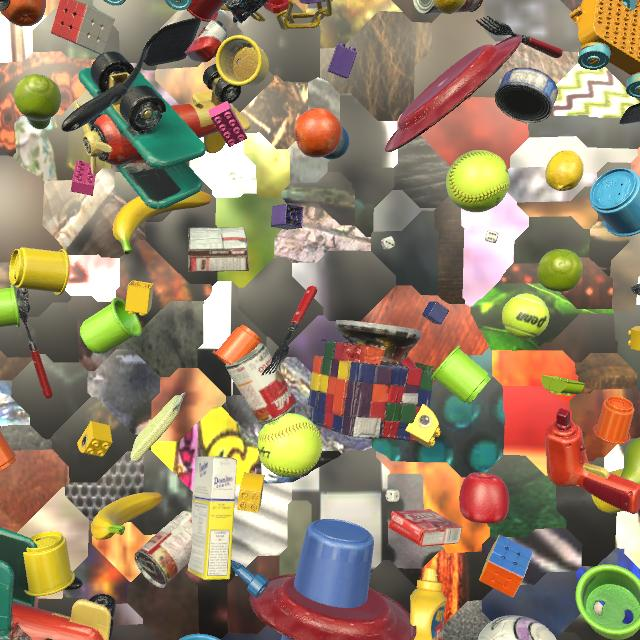ycb_004_sugar_box: (187, 456, 237, 580)
ycb_005_tomato_soup_can: (226, 343, 297, 424), (134, 510, 193, 588), (413, 0, 483, 14)
ycb_006_mustard_bottle: (410, 568, 447, 640)
ycb_007_tuna_fish_can: (495, 67, 558, 123)
ycb_008_pudding_box: (188, 227, 249, 272)
ycb_009_gelatin_box: (388, 509, 462, 547)
ycb_011_banana: (113, 191, 211, 254), (91, 492, 162, 540)
ycb_013_apple: (459, 472, 509, 524), (401, 356, 416, 368)
ycb_014_lemon: (545, 150, 584, 191), (433, 0, 466, 14)
ycb_016_pear: (14, 74, 61, 129), (537, 249, 583, 292), (620, 437, 640, 484)
ycb_017_orange: (294, 108, 343, 158), (1, 0, 46, 27)
